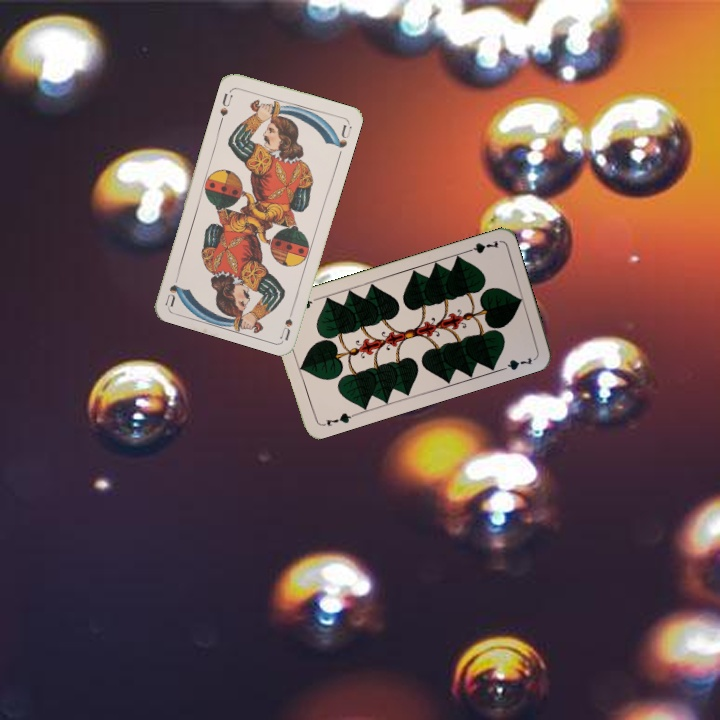G7: (461, 236, 501, 256), (317, 409, 357, 429)
SU: (276, 301, 297, 342), (216, 89, 235, 119)
